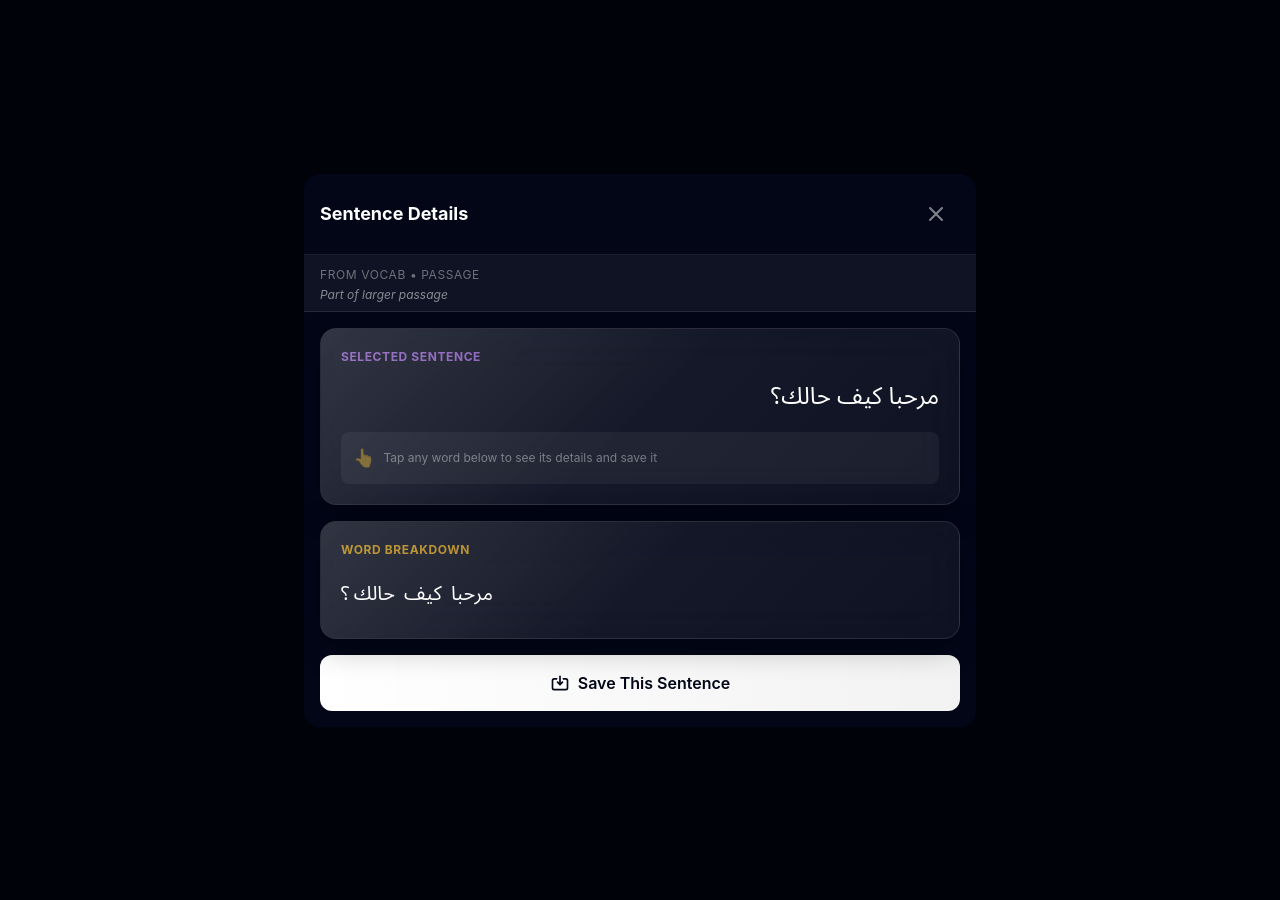
Test: SentenceDetailModal › Save functionality › shows saved state after save completes
The image size is (1280, 900).
Step 1. Click the button "Save This Sentence" → (640, 682), box [320,654,960,710]
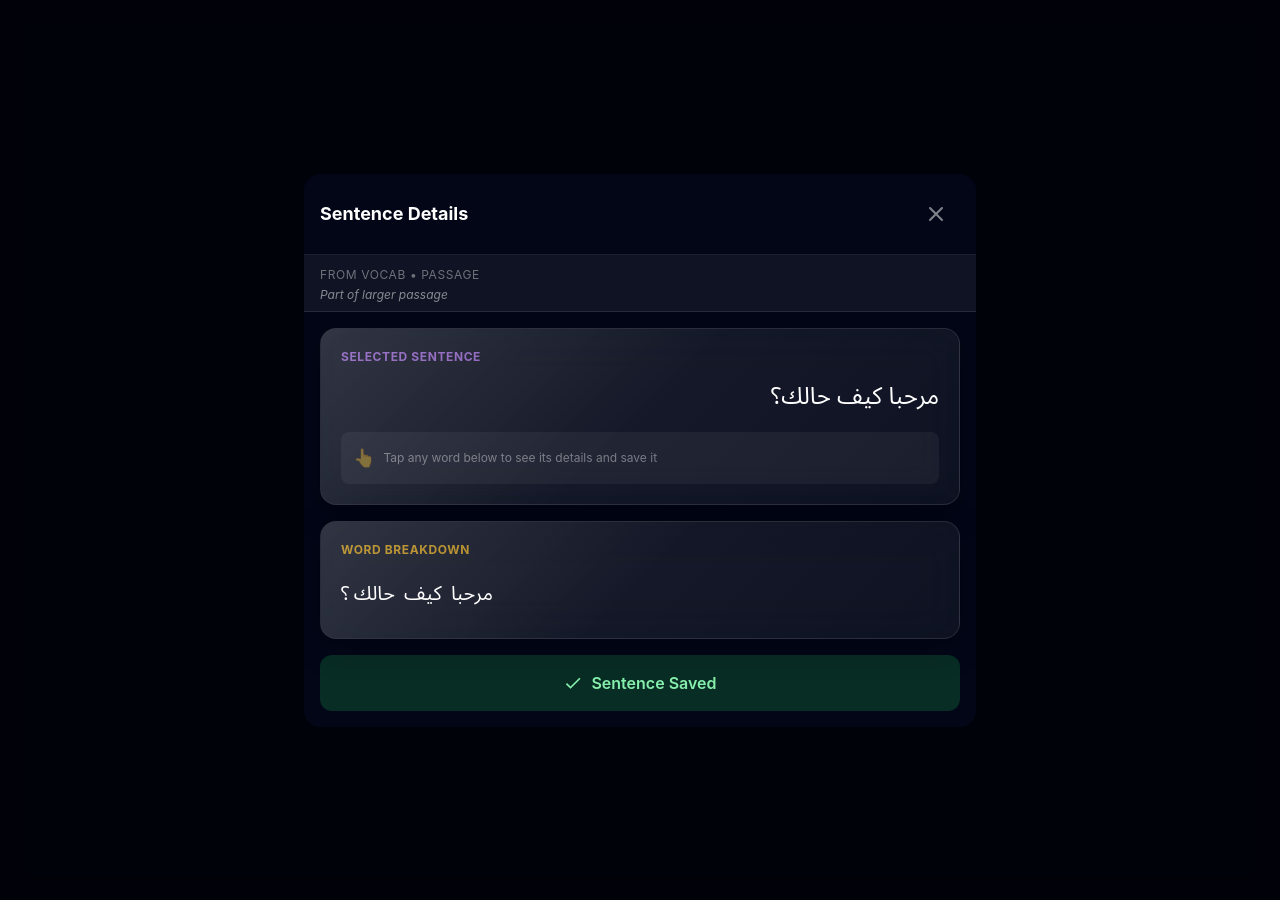
Expected: the button "Sentence Saved" is shown, [320,654,960,710]
